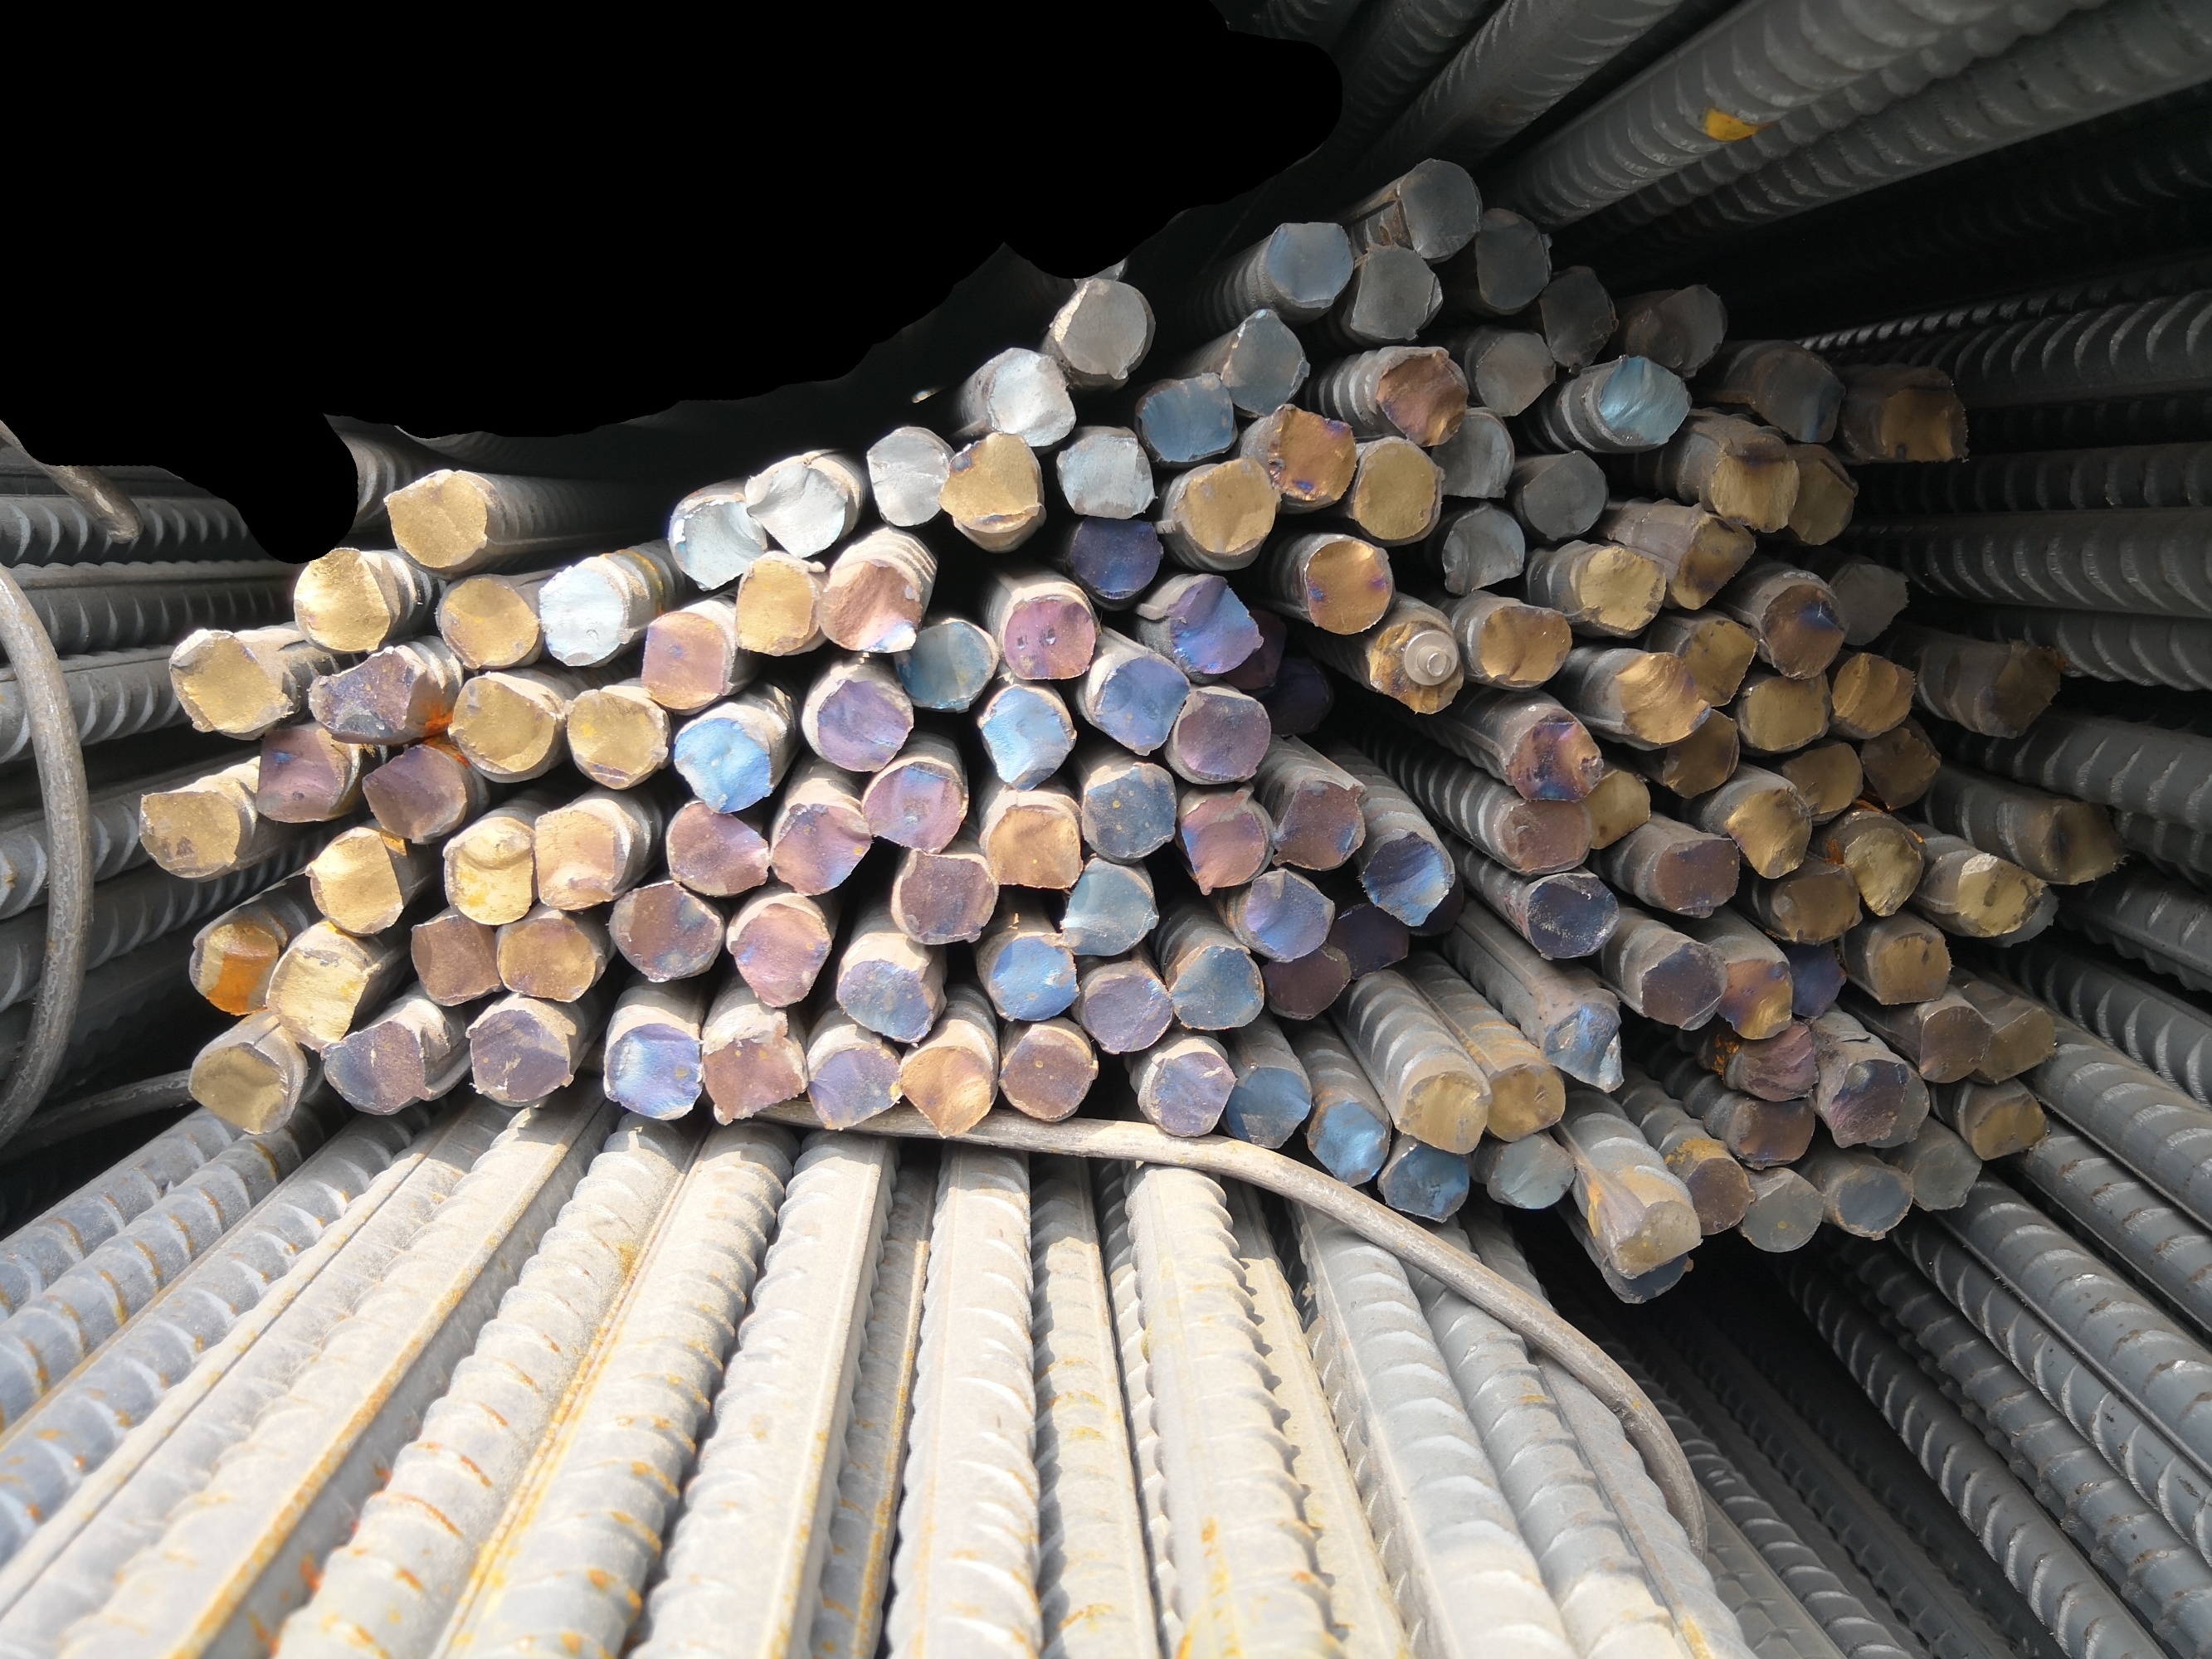rebar: (164, 622, 305, 746), (451, 995, 573, 1107), (261, 934, 373, 1054), (307, 1018, 434, 1121), (296, 824, 413, 934), (446, 671, 563, 779), (288, 544, 397, 657), (1041, 277, 1157, 383), (1168, 460, 1285, 566), (723, 899, 833, 1011), (812, 547, 924, 657), (608, 880, 723, 986), (124, 782, 251, 878), (302, 647, 429, 742), (373, 469, 493, 570), (1079, 647, 1191, 755), (807, 669, 920, 775), (1598, 647, 1712, 753), (657, 793, 772, 897), (854, 751, 971, 854), (1694, 415, 1797, 532), (741, 451, 852, 558), (966, 343, 1077, 450), (180, 910, 284, 1021), (399, 903, 504, 1014), (429, 568, 542, 671), (934, 432, 1048, 535), (973, 681, 1077, 791), (248, 723, 361, 824), (354, 739, 467, 840), (1156, 572, 1262, 678), (699, 1019, 807, 1124), (833, 941, 941, 1046), (767, 798, 875, 903), (1649, 507, 1757, 612), (530, 558, 633, 667), (601, 1012, 704, 1122), (1211, 305, 1314, 415), (675, 706, 776, 817), (1869, 359, 1970, 471), (488, 906, 605, 1002), (431, 819, 537, 924), (1262, 765, 1367, 871), (892, 847, 1001, 950), (1743, 343, 1849, 446), (1365, 612, 1466, 720), (2025, 791, 2134, 892), (181, 1039, 295, 1134), (997, 1019, 1100, 1124), (1297, 532, 1396, 640), (1752, 573, 1851, 681), (1260, 399, 1358, 509), (1060, 857, 1163, 960), (1340, 439, 1443, 542), (565, 687, 669, 788), (638, 608, 739, 713), (668, 490, 769, 594), (528, 803, 626, 911), (1175, 789, 1272, 897), (1229, 870, 1339, 965), (804, 1035, 906, 1136), (1079, 758, 1180, 861), (1170, 685, 1272, 786), (1370, 342, 1469, 446), (1966, 636, 2066, 741), (1584, 354, 1691, 451), (1534, 992, 1626, 1103), (1652, 702, 1754, 803), (1356, 824, 1455, 927), (899, 1033, 997, 1138), (983, 795, 1088, 892), (1469, 601, 1578, 695), (1051, 423, 1156, 519), (1138, 1037, 1234, 1141), (1131, 369, 1238, 464), (727, 552, 819, 660), (865, 418, 952, 532), (1468, 202, 1555, 315), (1534, 260, 1621, 373), (1501, 709, 1600, 809), (1626, 282, 1727, 380), (1063, 509, 1166, 605), (1168, 936, 1264, 1039), (1518, 871, 1623, 965), (1372, 1127, 1469, 1227), (1666, 605, 1766, 702), (1837, 814, 1930, 918), (889, 620, 997, 709), (1600, 1190, 1708, 1279), (1391, 1060, 1490, 1155), (1764, 857, 1867, 950), (1713, 1019, 1822, 1107), (1001, 584, 1096, 681), (1260, 216, 1356, 314), (1569, 544, 1668, 638), (985, 929, 1079, 1026), (1642, 828, 1741, 920), (1637, 932, 1727, 1033), (1225, 1053, 1313, 1157), (1947, 843, 2041, 939), (1724, 779, 1815, 878), (1736, 666, 1837, 755), (1710, 941, 1797, 1044), (1398, 155, 1483, 260), (1734, 1166, 1829, 1260), (1347, 249, 1443, 342), (1829, 648, 1924, 741), (1672, 1143, 1755, 1248), (1436, 504, 1529, 598), (1075, 967, 1175, 1054), (1300, 1091, 1388, 1190), (1517, 450, 1609, 542), (1497, 791, 1595, 878), (1785, 437, 1862, 547), (1780, 732, 1870, 824), (1822, 558, 1917, 645), (1429, 408, 1515, 504), (1862, 924, 1958, 1009), (1255, 941, 1353, 1025), (1827, 1051, 1909, 1148), (1469, 326, 1555, 418), (1483, 1058, 1569, 1148), (1978, 997, 2062, 1087), (1487, 1126, 1572, 1213), (1856, 720, 1944, 805), (1726, 1091, 1818, 1171), (1912, 1000, 1996, 1086), (1896, 1131, 1984, 1209), (1323, 899, 1412, 976), (1958, 1087, 2046, 1164), (1590, 1248, 1694, 1310), (1823, 1164, 1910, 1239), (1259, 655, 1335, 739), (1578, 765, 1654, 847), (1870, 1061, 1933, 1157), (1225, 603, 1292, 692), (1989, 878, 2066, 951), (1785, 938, 1853, 1019), (1400, 870, 1469, 941)
